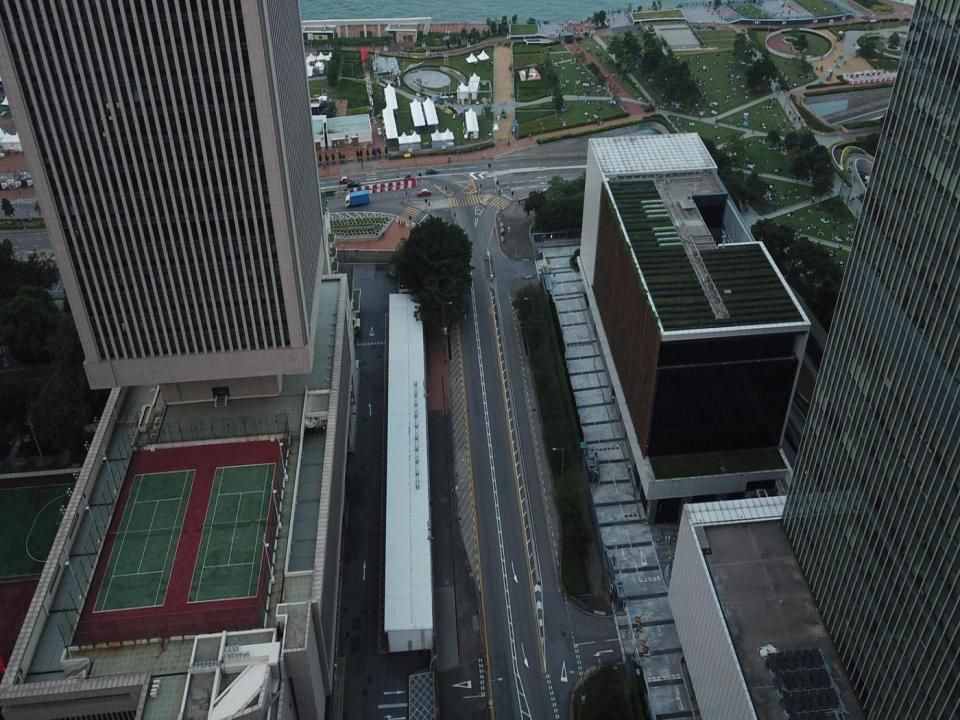car: (416, 188, 430, 196), (426, 167, 438, 176), (339, 176, 352, 184), (348, 181, 360, 188), (404, 174, 415, 181), (375, 121, 377, 123)
truck: (344, 190, 370, 208)
van: (376, 127, 382, 136)
